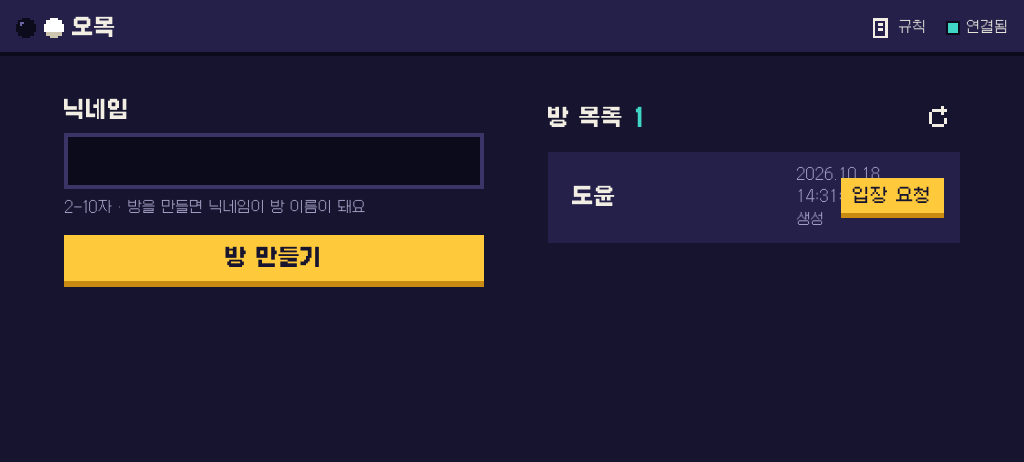
Test: HomeScreen › 입장 요청 › 그 사이 대국이 시작된 방이면 알려주고 목록을 다시 불러와요
In the field labelled "닉네임": (274, 161) [64,133,484,189], type "지니"
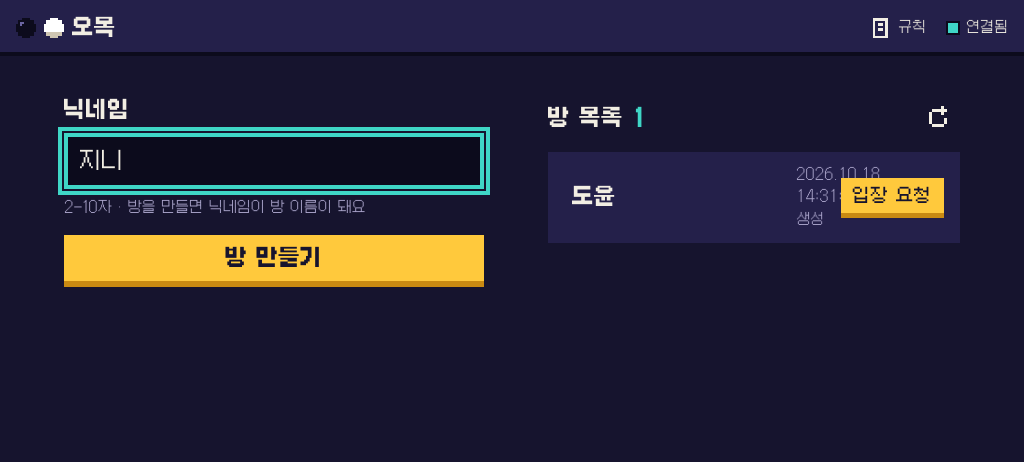
Click the button with aria-label "도윤 방에 입장 요청": click(892, 198) [841,178,944,218]
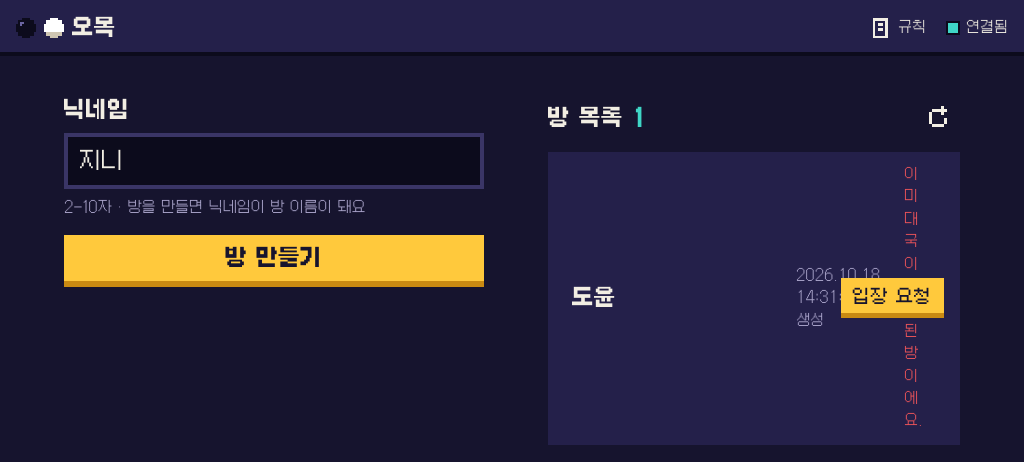
Expected: the text "이미 대국이 시작된 방이에요." is shown, [904,164,923,433]
